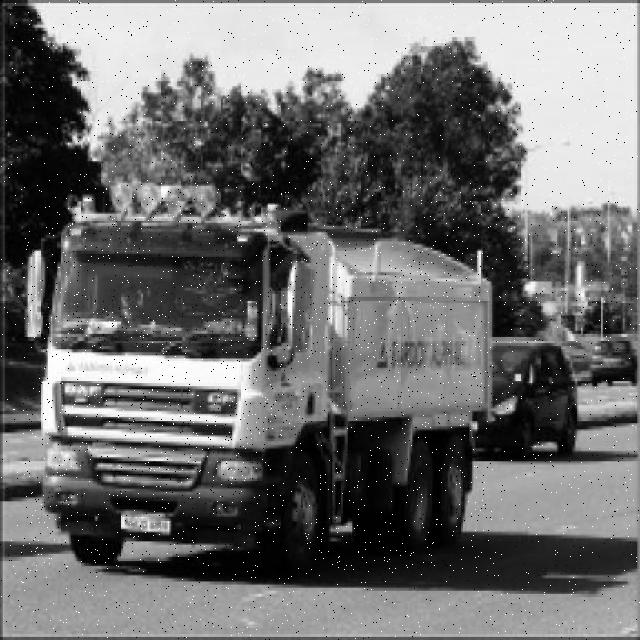Box Truck: (23, 182, 492, 574)
